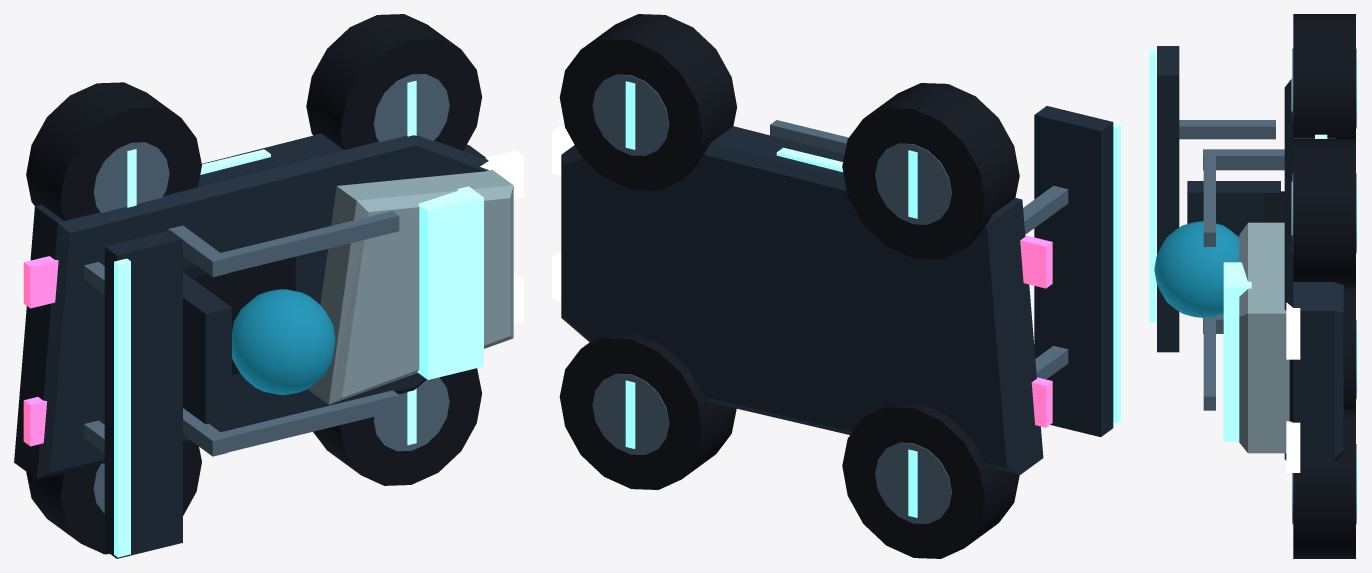
Rendered from mite-forager.glb.
3 renders of one model, left to right at view 1: azimuth 30°, elevation 25°; view 2: azimuth 150°, elevation 25°; view 3: azimuth 270°, elevation 25°, orthographic. The views are drawn at different scales.
Parts seen in each view (by area): view 1: Mite / electric kart; view 2: Mite / electric kart; view 3: Mite / electric kart.
Part boxes in pixels (<box>): Mite / electric kart: <box>14,14,523,558</box>; Mite / electric kart: <box>552,14,1120,558</box>; Mite / electric kart: <box>1149,14,1357,558</box>.
Bounding box in the file's own units: 1.49 × 1.29 × 0.599.
